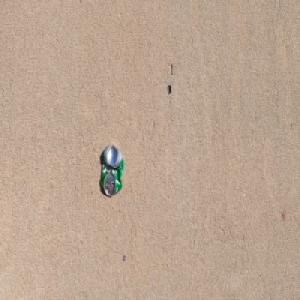SodaCan: (99, 143, 125, 197)
